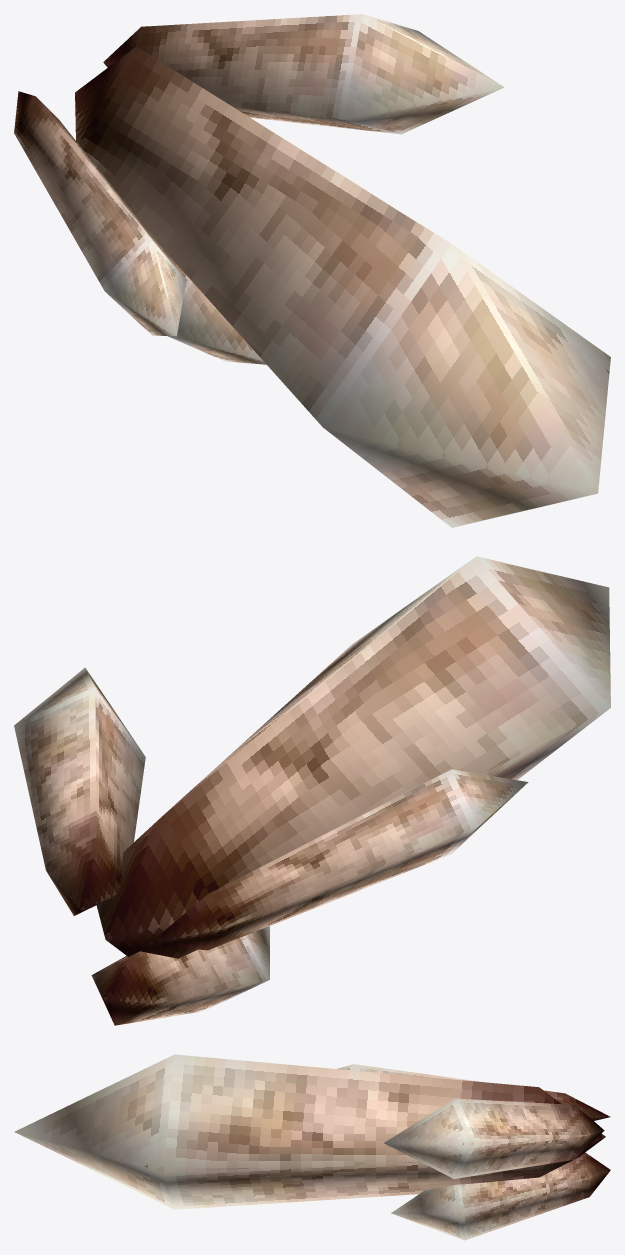
File: HighRefineStone.glb
3 views of the same model, one above another, from view 1: azimuth 30°, elevation 25°; view 2: azimuth 150°, elevation 25°; view 3: azimuth 270°, elevation 25° (orthographic). The views are drawn at different scales.
Visible parts, largest first — view 1: model_HighRefineStone; view 2: model_HighRefineStone; view 3: model_HighRefineStone.
Boxes of the visible parts, x1=… form: model_HighRefineStone: x1=14, y1=14, x2=610, y2=527; model_HighRefineStone: x1=14, y1=556, x2=610, y2=1025; model_HighRefineStone: x1=14, y1=1054, x2=610, y2=1240.
Size of the model in its own units: 0.1705 by 0.1254 by 0.3851.
Materials: 1 (1 with a texture image).
